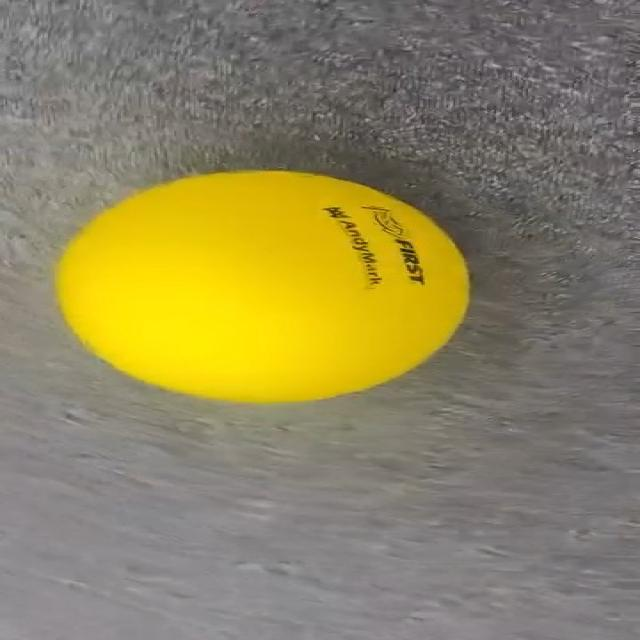Fuels: (71, 172, 466, 401)
